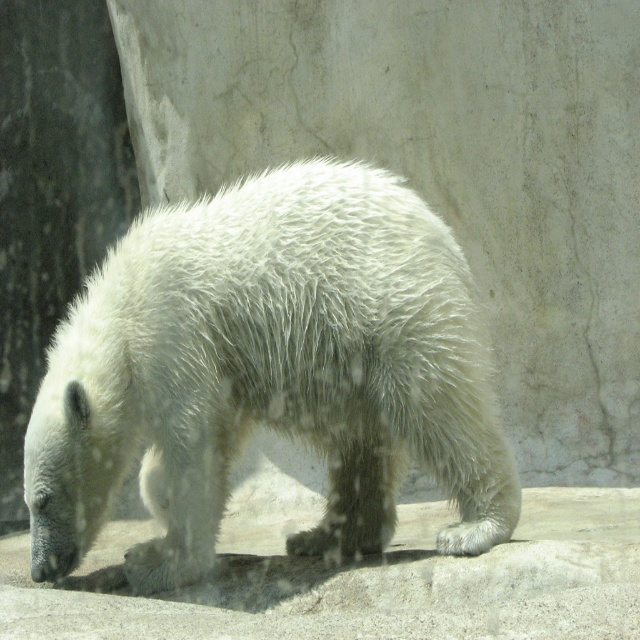Polar bear: (24, 153, 518, 597)
